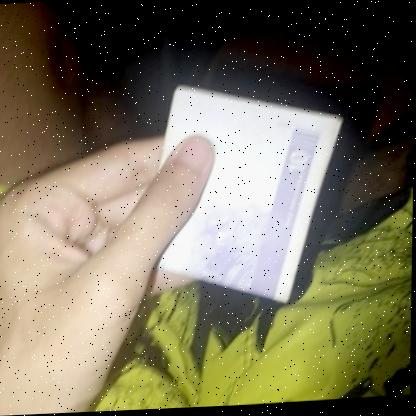ten-back-vef: (144, 77, 346, 314)
